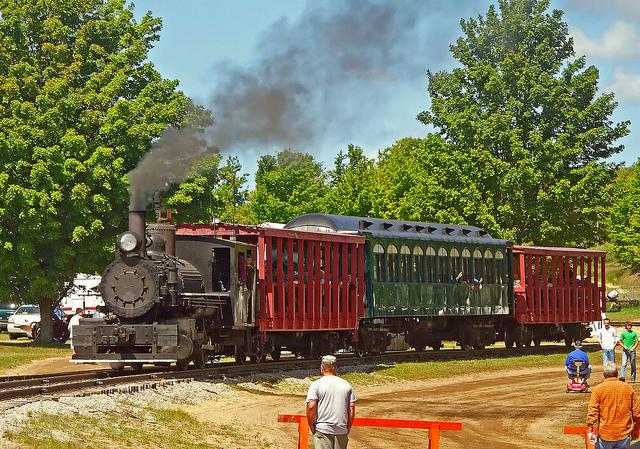Train: (68, 207, 611, 370)
